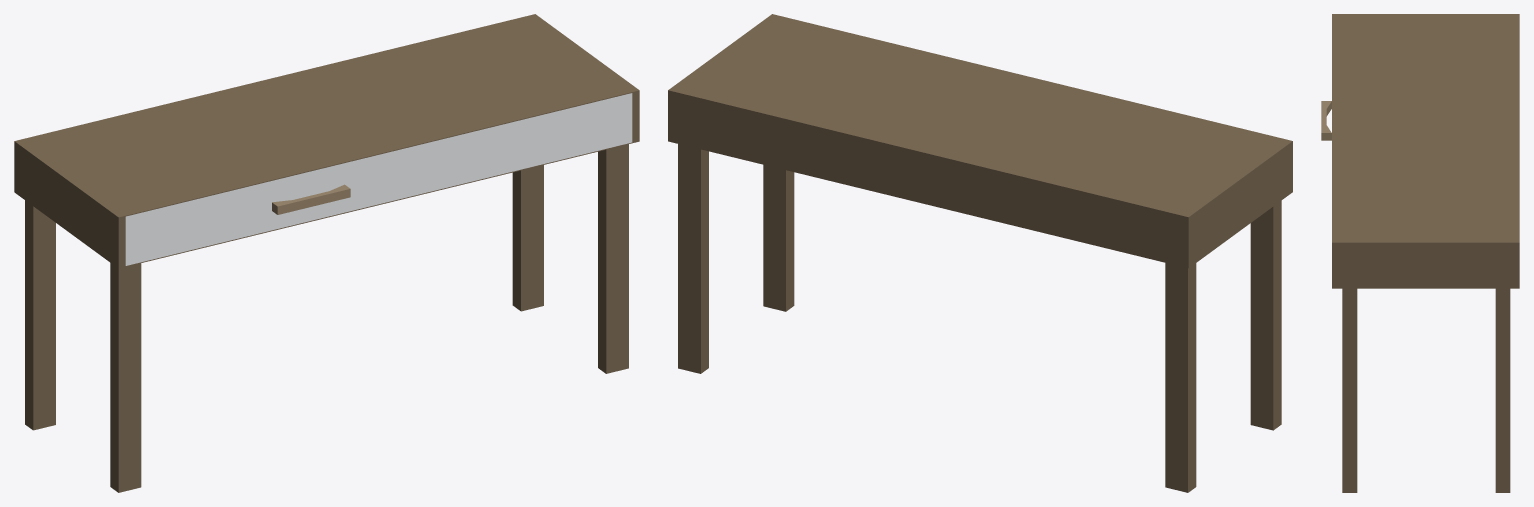
File: Accesories_Desk.glb
The picture shows the model from 3 angles, left to right: view 1: azimuth 30°, elevation 25°; view 2: azimuth 150°, elevation 25°; view 3: azimuth 270°, elevation 25°; orthographic projection. The views are drawn at different scales.
Visible parts, largest first — view 1: Accesories_Desk; view 2: Accesories_Desk; view 3: Accesories_Desk.
Boxes of the visible parts, bbox=[...] form: Accesories_Desk: bbox=[14, 14, 639, 492]; Accesories_Desk: bbox=[668, 14, 1292, 492]; Accesories_Desk: bbox=[1321, 14, 1519, 492].
Size of the model in its own units: 1.44 by 0.74 by 0.5259.
Materials: 1 (1 with a texture image).
